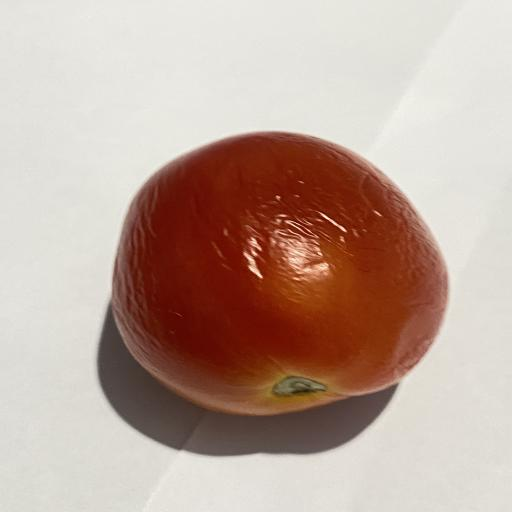spoiled: (112, 132, 447, 415)
